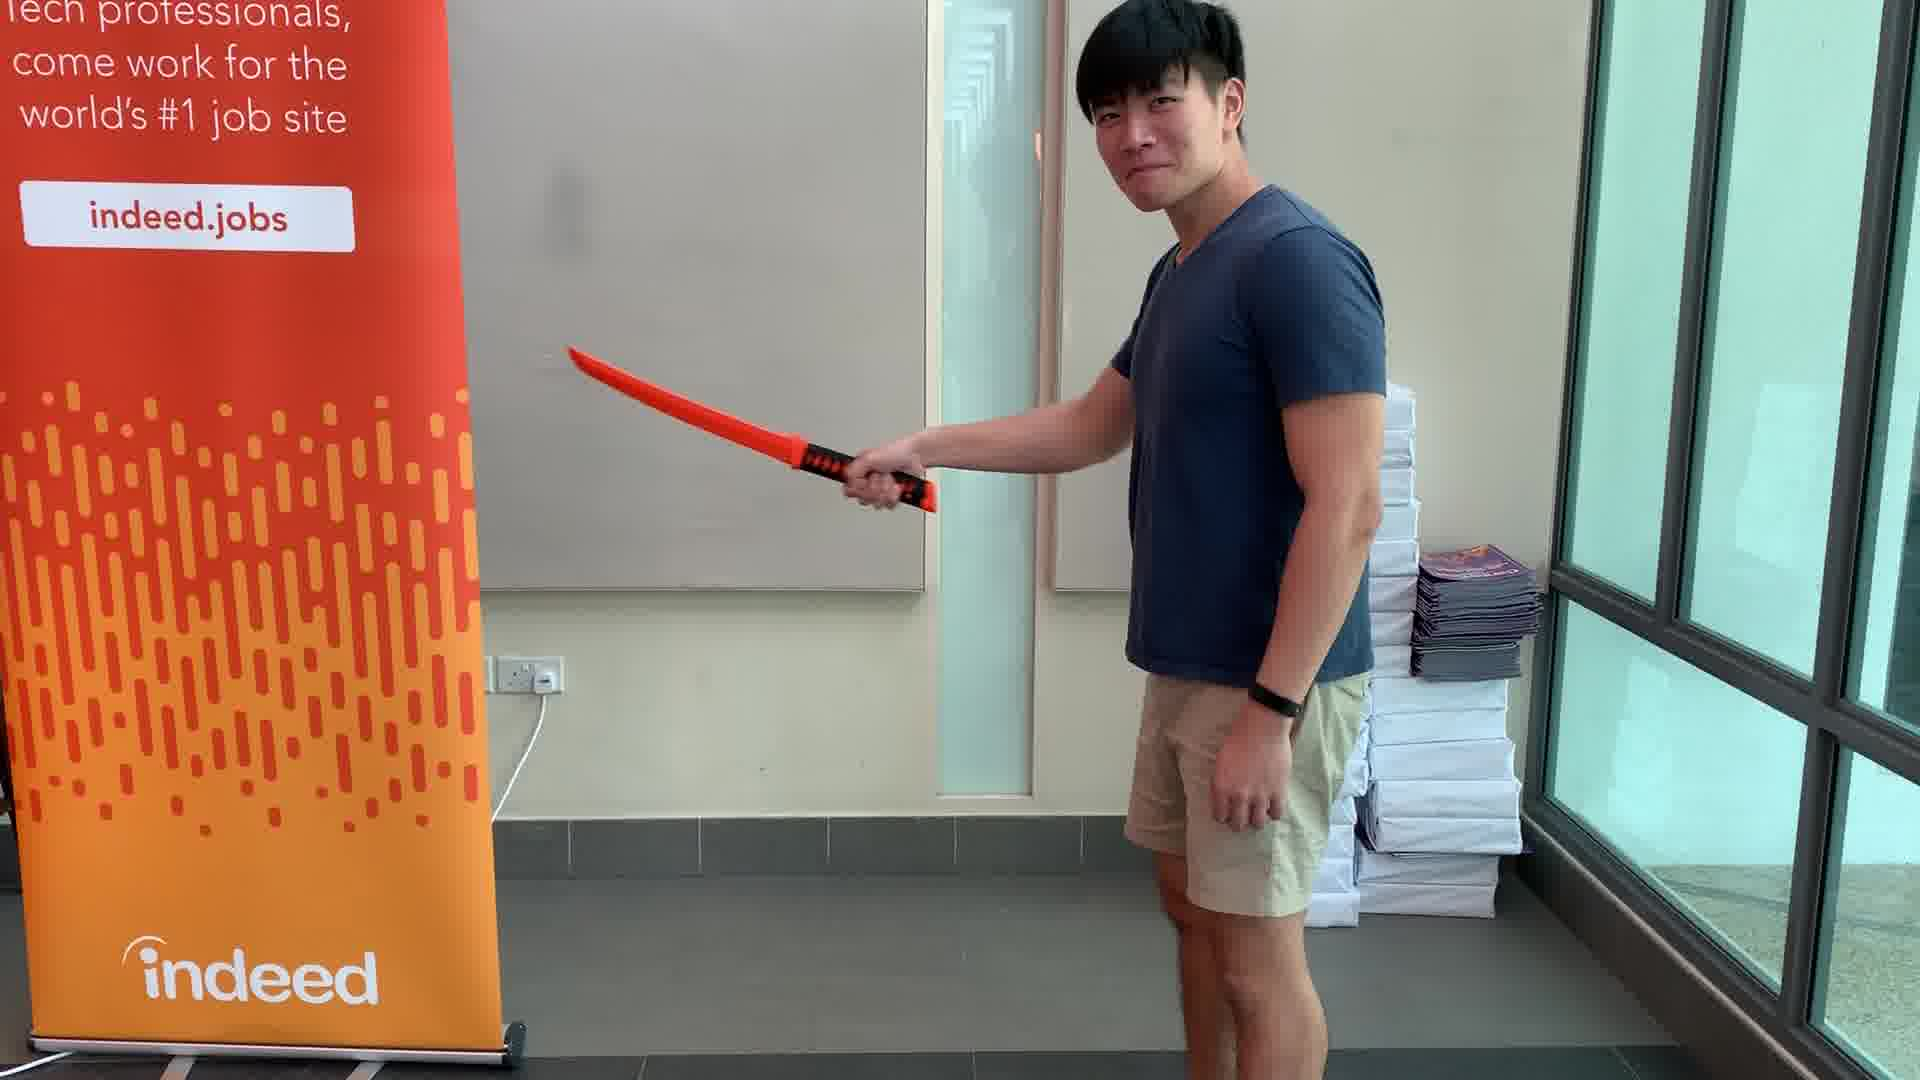knife: (555, 339, 948, 522)
